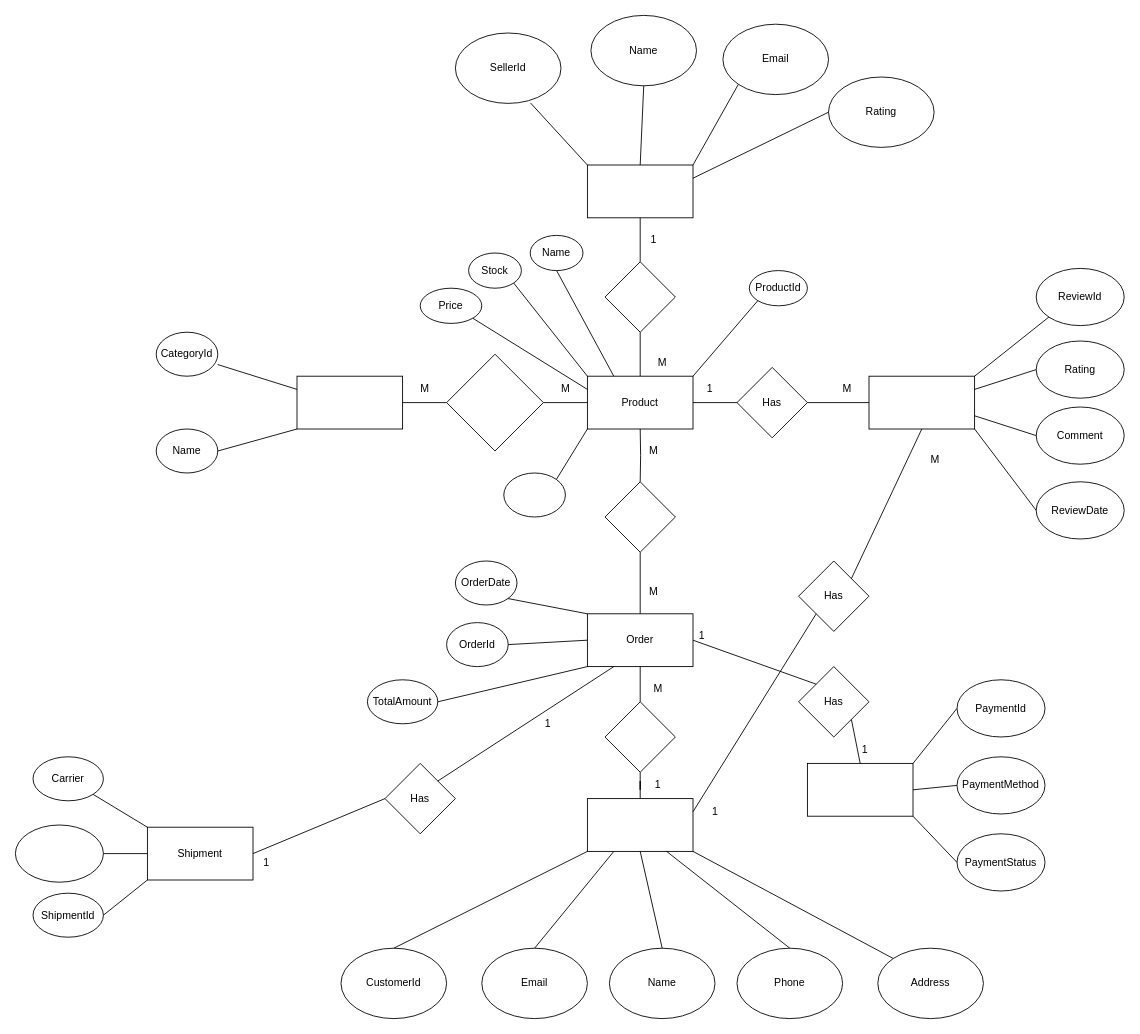
Some shapes in this 1140 by 1034 pixel diagram are drawn without their labels. The centre of each missing label's shape, as x and y in pixels:
"Category" belongs at point 349,402.
"Customer" belongs at point 640,824.
"Description" belongs at point 534,494.
"OrderProduct" belongs at point 639,516.
"Payment" belongs at point 860,789.
"Places" belongs at point 639,736.
"ProductCategory" belongs at point 494,402.
"Review" belongs at point 921,402.
"Seller" belongs at point 640,191.
"Sells" belongs at point 639,296.
"ShipmentDate" belongs at point 59,853.
